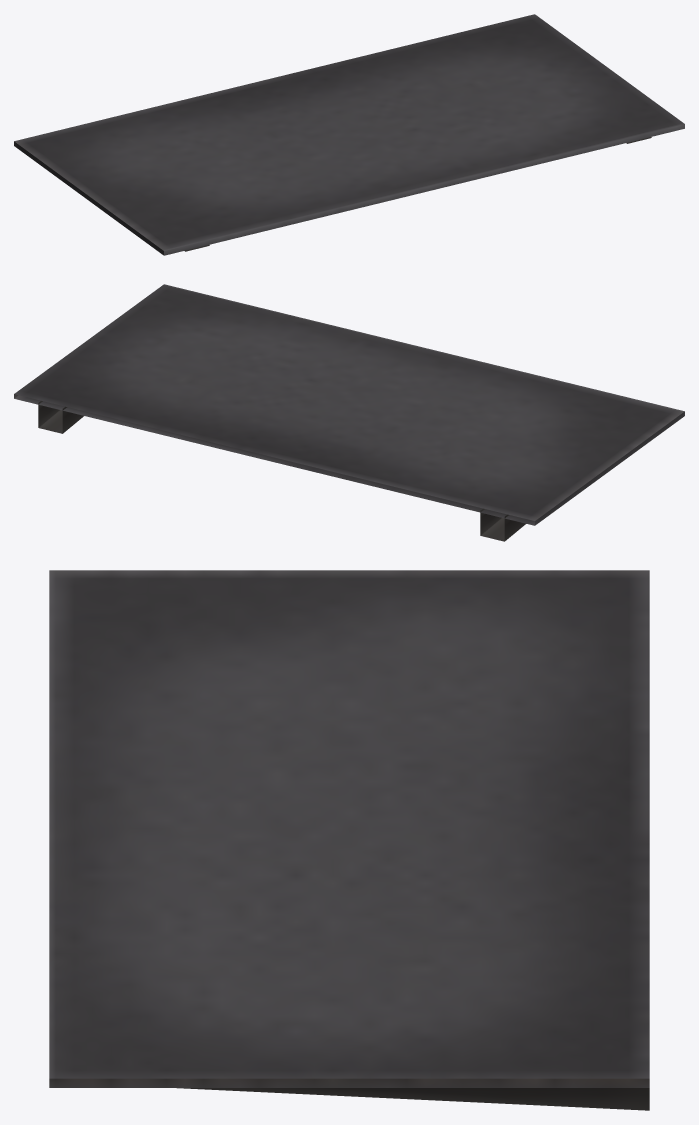
The model's file is B6_StoreCover.FBX.
3 views of the same model, one above another, from view 1: azimuth 30°, elevation 25°; view 2: azimuth 150°, elevation 25°; view 3: azimuth 270°, elevation 25° (orthographic). The views are drawn at different scales.
Parts seen in each view (by area): view 1: B6_StoreCover; view 2: B6_StoreCover; view 3: B6_StoreCover.
Boxes of the visible parts, x1,y1,x2,y2 form: B6_StoreCover: (14, 14, 684, 255); B6_StoreCover: (14, 284, 684, 541); B6_StoreCover: (49, 570, 649, 1110).
Bounding box in the file's own units: 4.21 × 0.2158 × 2.1.
